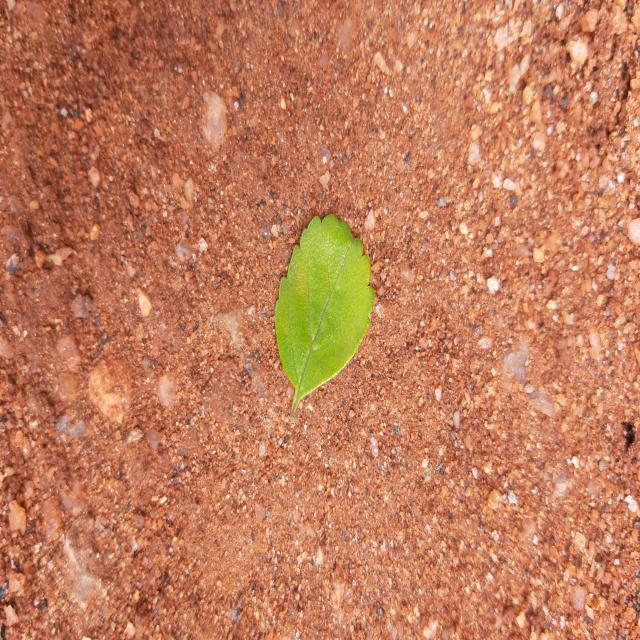tecoma: (275, 213, 374, 420)
